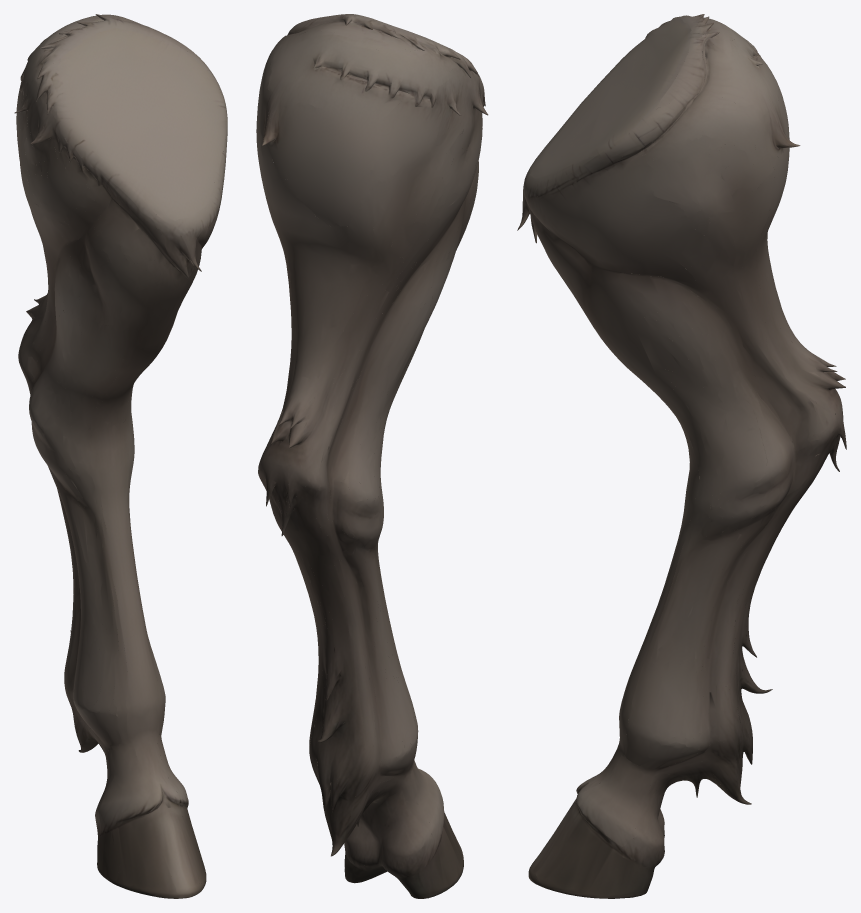
File: mati_game.glb
3 views of the same model, side by side, from view 1: azimuth 30°, elevation 25°; view 2: azimuth 150°, elevation 25°; view 3: azimuth 270°, elevation 25° (orthographic). The views are drawn at different scales.
Visible parts, largest first — view 1: node_0; view 2: node_0; view 3: node_0.
Part boxes in pixels (x1,y1,x2,y2): node_0: (14,14,227,898); node_0: (256,14,488,898); node_0: (517,14,846,898).
Size of the model in its own units: 0.2663 by 1.14 by 0.4031.
1 material, 1 textured.
